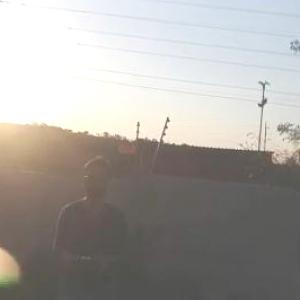follow: (48, 153, 138, 299)
